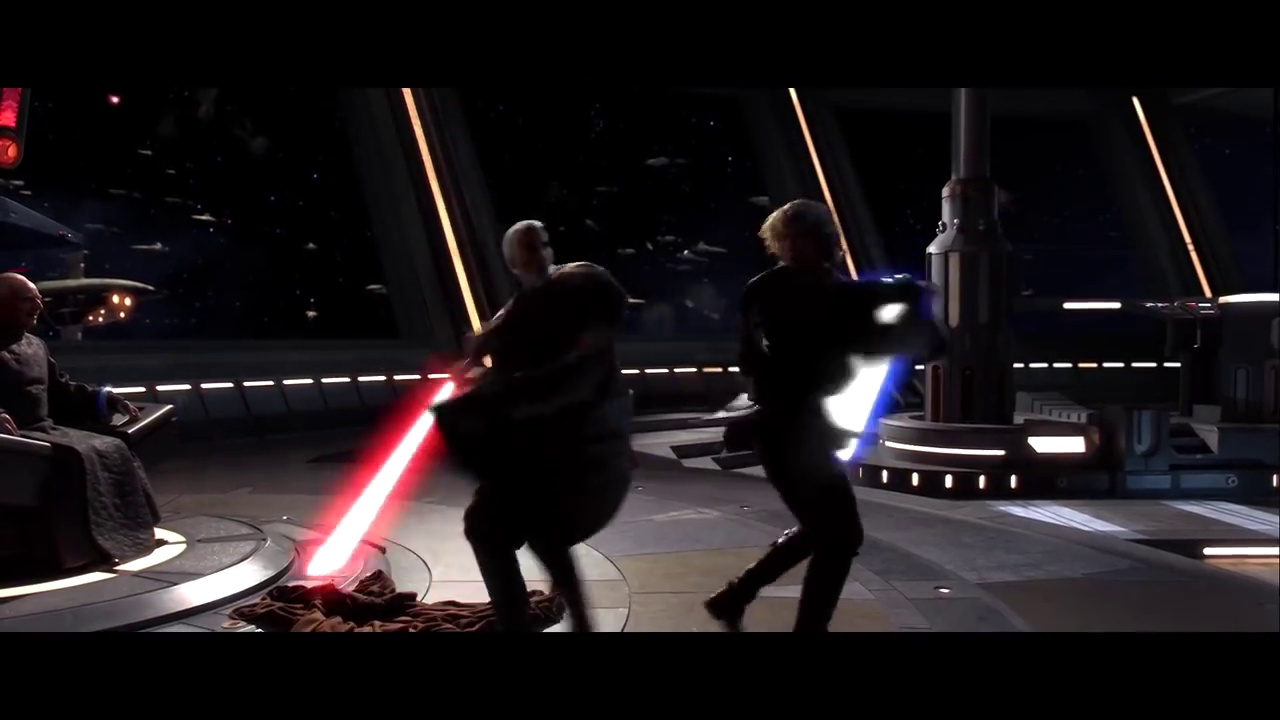lightsaber: (294, 344, 485, 584)
